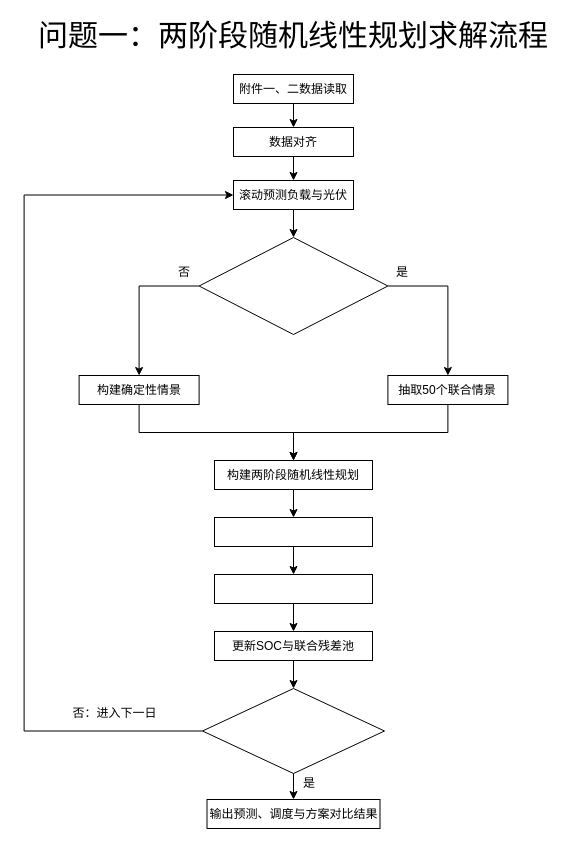
The diagram is 569 pixels wide and 846 high, and some of its shapes have lost their labels. Each missing label, with the centre of its shape:
HiGHS求解并检查最优状态: (x=293, y=531)
是否完成全年滚动？: (x=293, y=731)
有效残差池是否可用？: (x=293, y=285)
跟据实际数据执行调度: (x=293, y=589)
